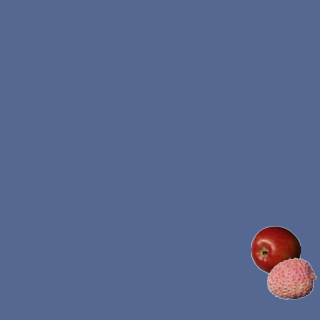Apple Braeburn: (250, 225, 300, 275)
Lychee: (266, 253, 316, 303)
